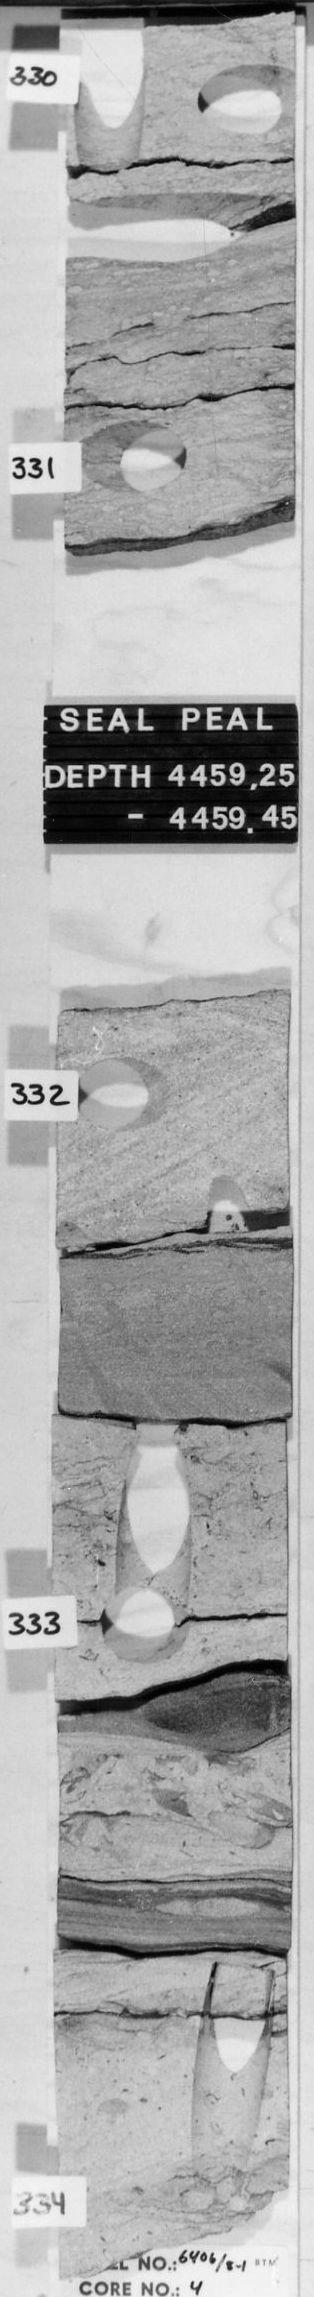hplug: (72, 416, 195, 497), (189, 56, 293, 142), (73, 1052, 176, 1137), (95, 1585, 198, 1666)
scal: (65, 182, 288, 275)
vplug: (182, 1948, 279, 2165), (112, 1425, 208, 1585), (72, 23, 161, 176), (195, 1165, 271, 1248)
